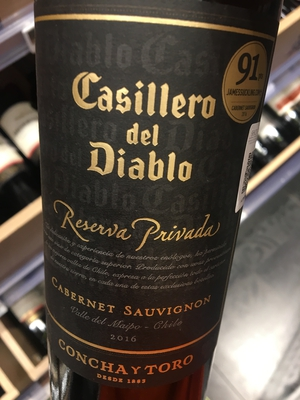casillero del diablo reserva privada cabernet sauvignon: (25, 8, 276, 400)
